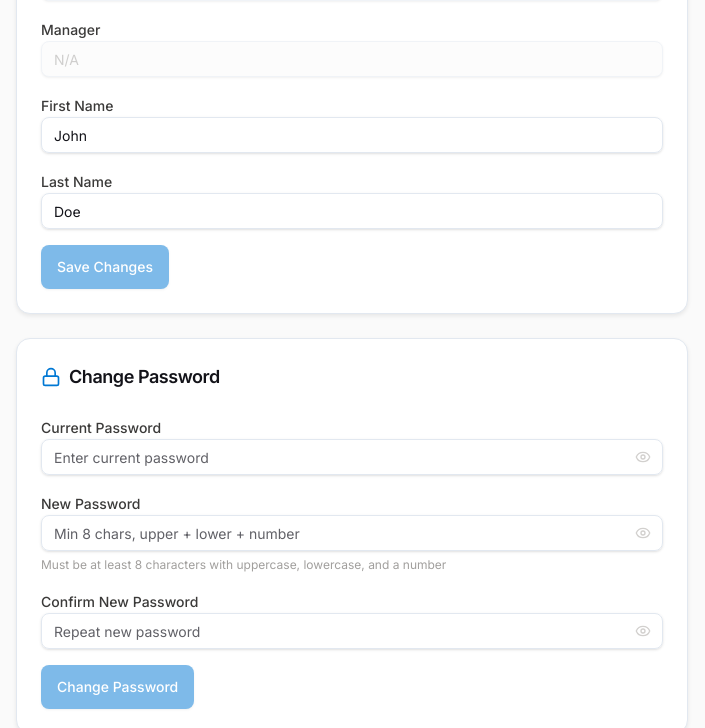
Test: ProfilePage › password change › shows error from API on password change failure
This screenshot has width=705, height=728.
(page scrolled)
Expected: the field showing "John" is shown, [41,117,663,153]
Type "WrongPass1" into the password field labelled "Current Password".
click(352, 457); type("WrongPass1")  # box [41,439,663,475]
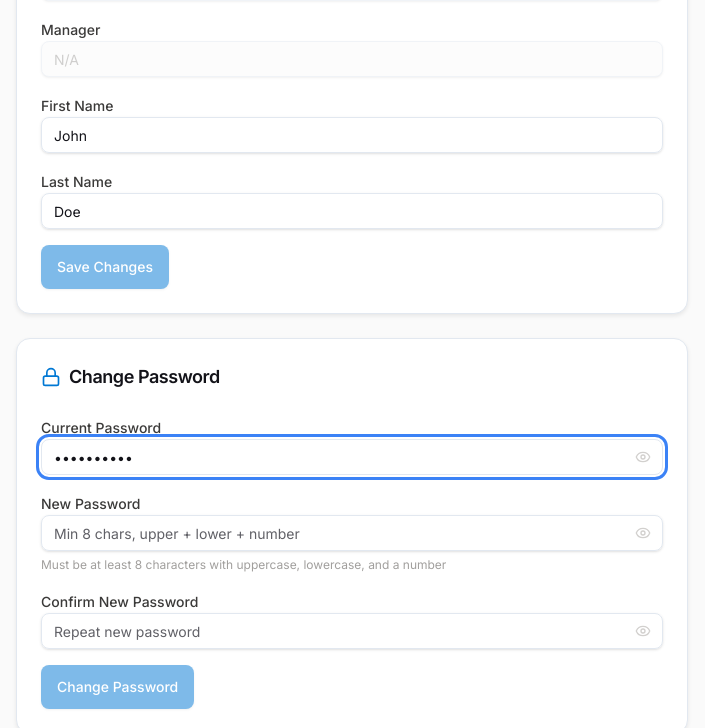
Type "NewPass123" into the password field labelled "New Password".
click(352, 533); type("NewPass123")  # box [41,515,663,551]
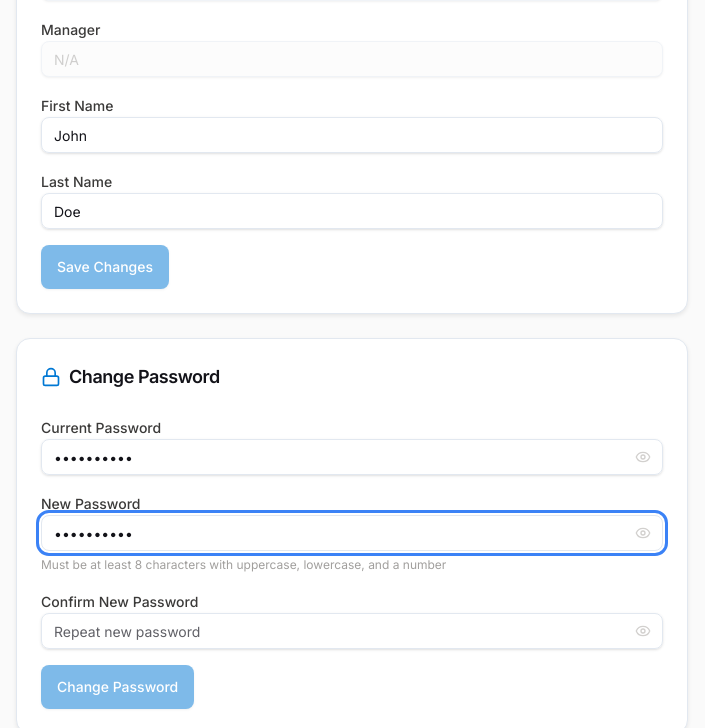
Type "NewPass123" into the password field labelled "Confirm New Password".
click(352, 631); type("NewPass123")  # box [41,613,663,649]
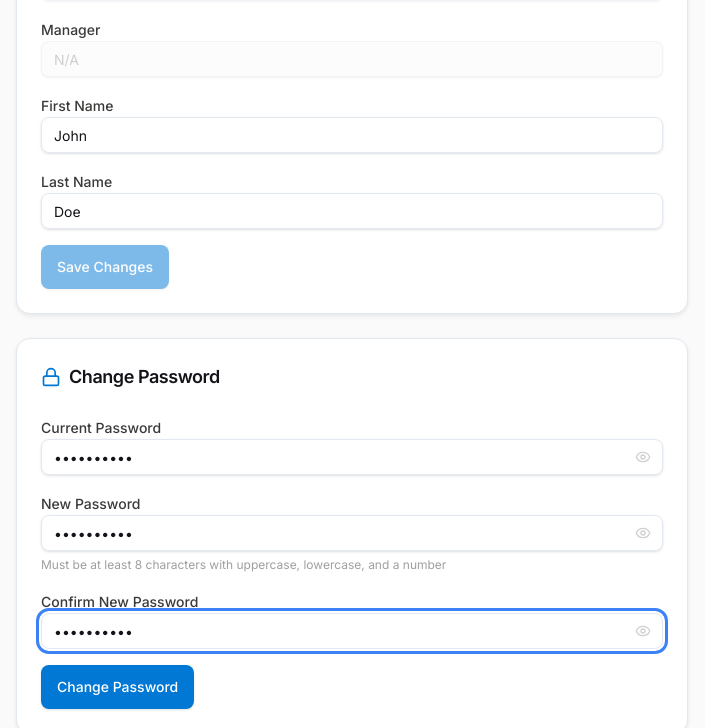
Click the button "Change Password".
click(118, 687)  # box [41,665,194,709]
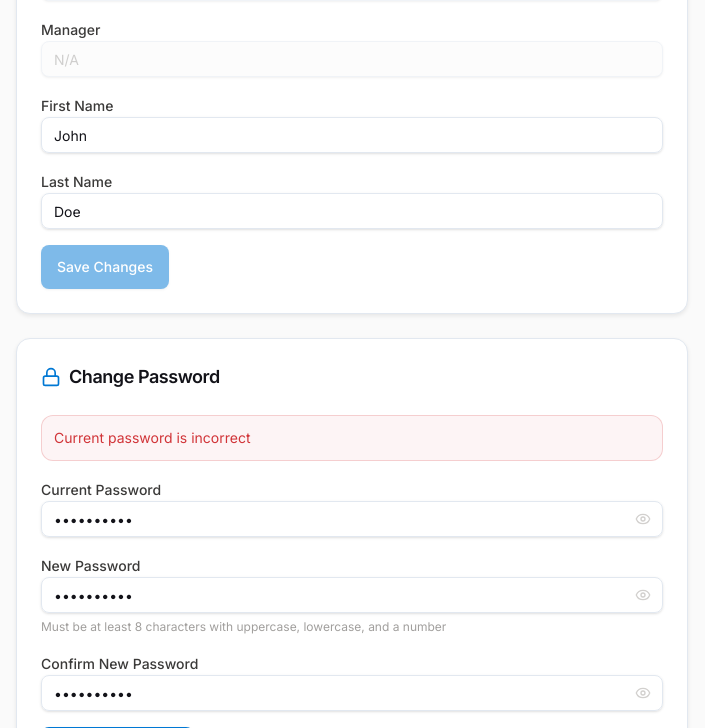
Result: the text "Current password is incorrect" is shown at [41,415,663,461]
